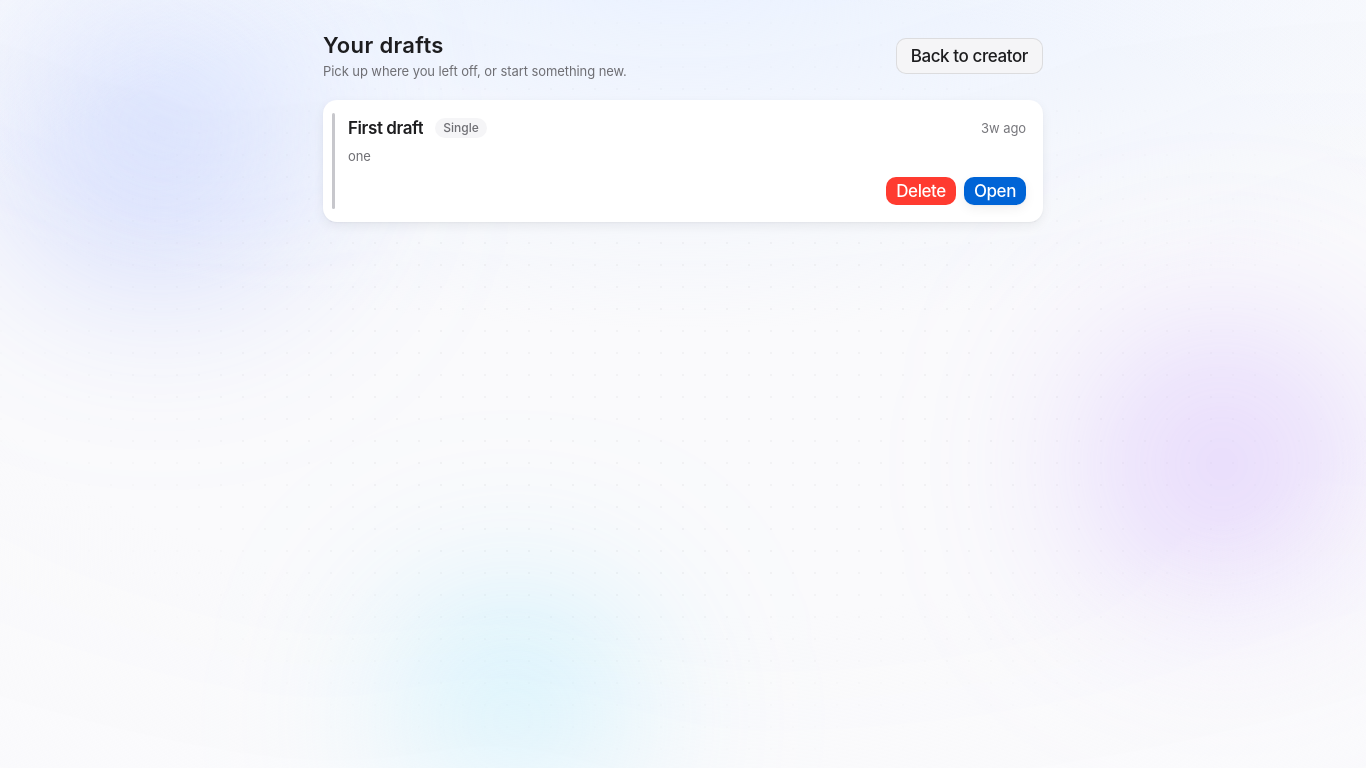
Test: DraftsDashboard › shows the empty state after deleting the last draft
Expected: the link "First draft" is shown, [348,118,423,138]
Click the button "Delete". click: (921, 190)
box: [886,176,956,204]
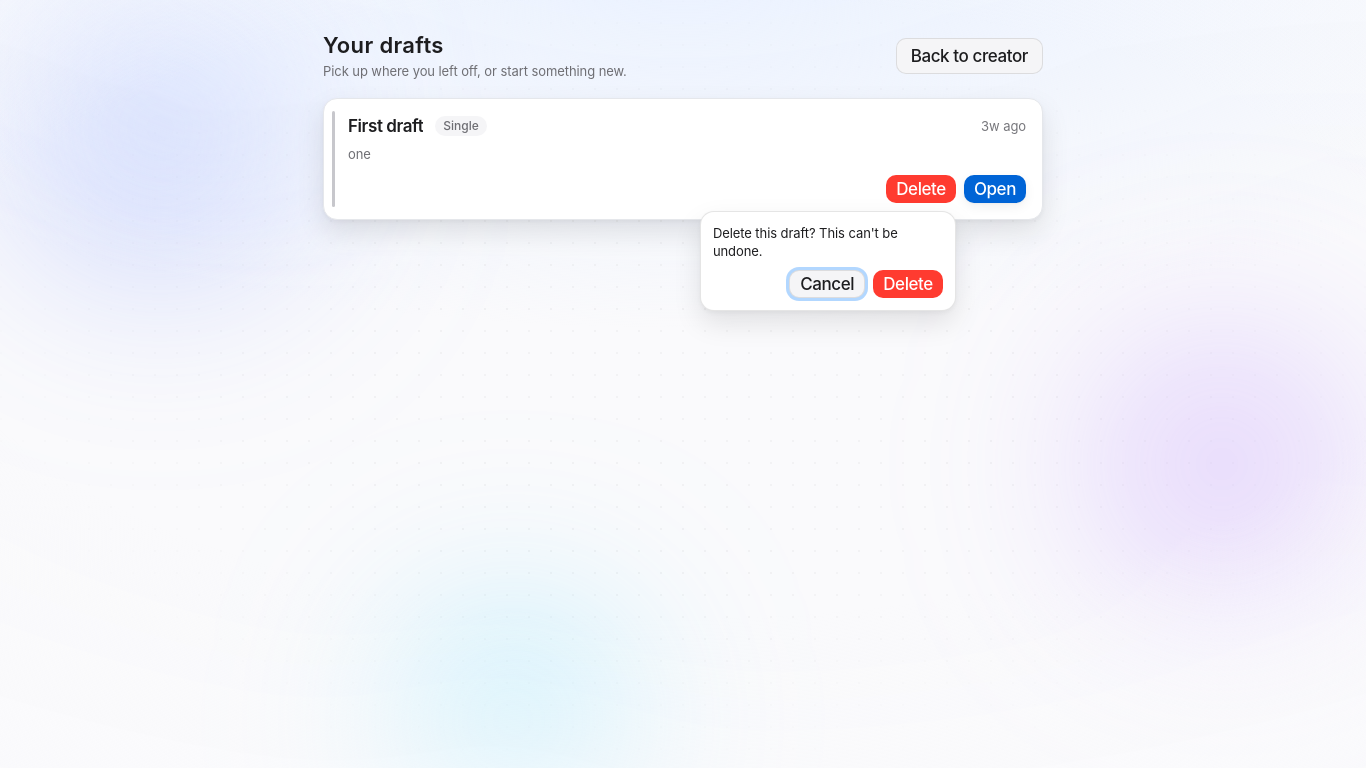
Click the button "Delete" below "Delete this draft? This can't be undone.". click: (908, 284)
box: [873,270,943,298]
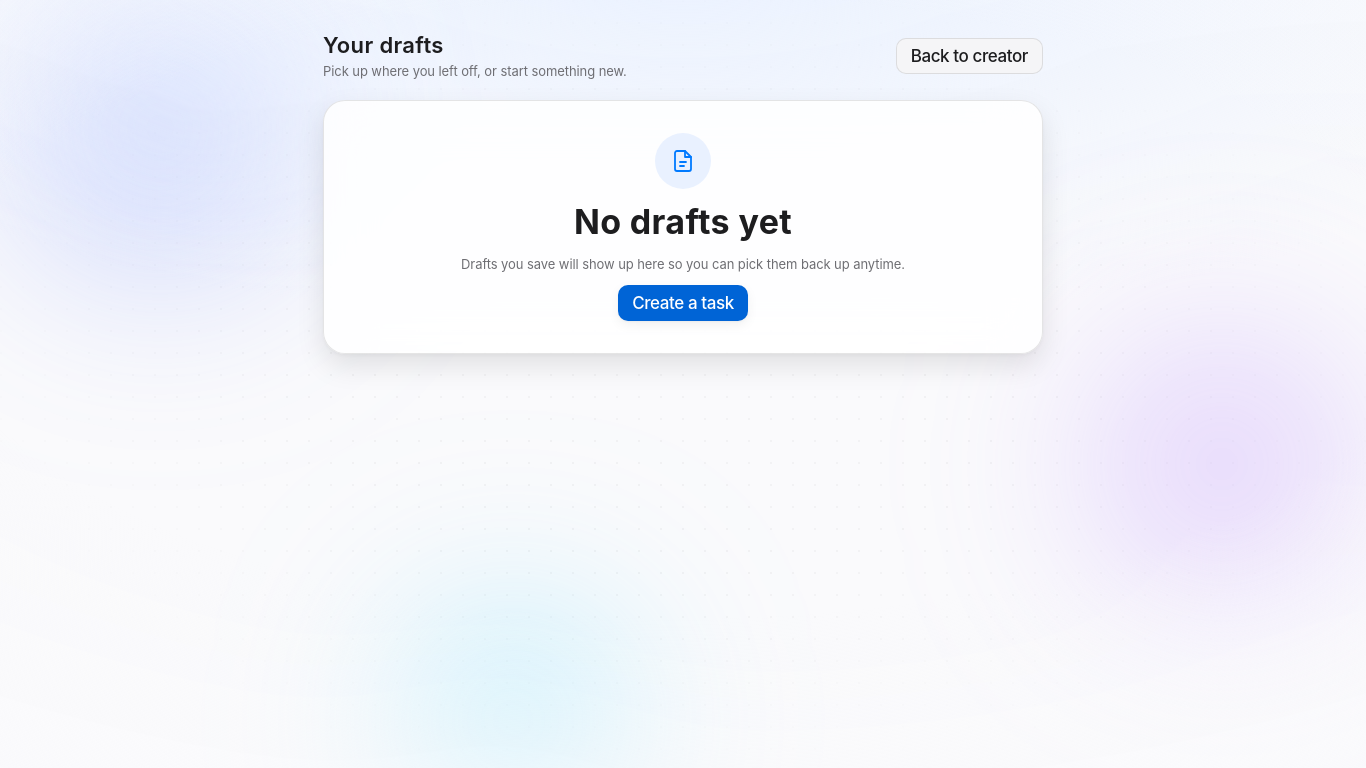
Expected: the heading "No drafts yet" is shown, [574,200,792,243]
